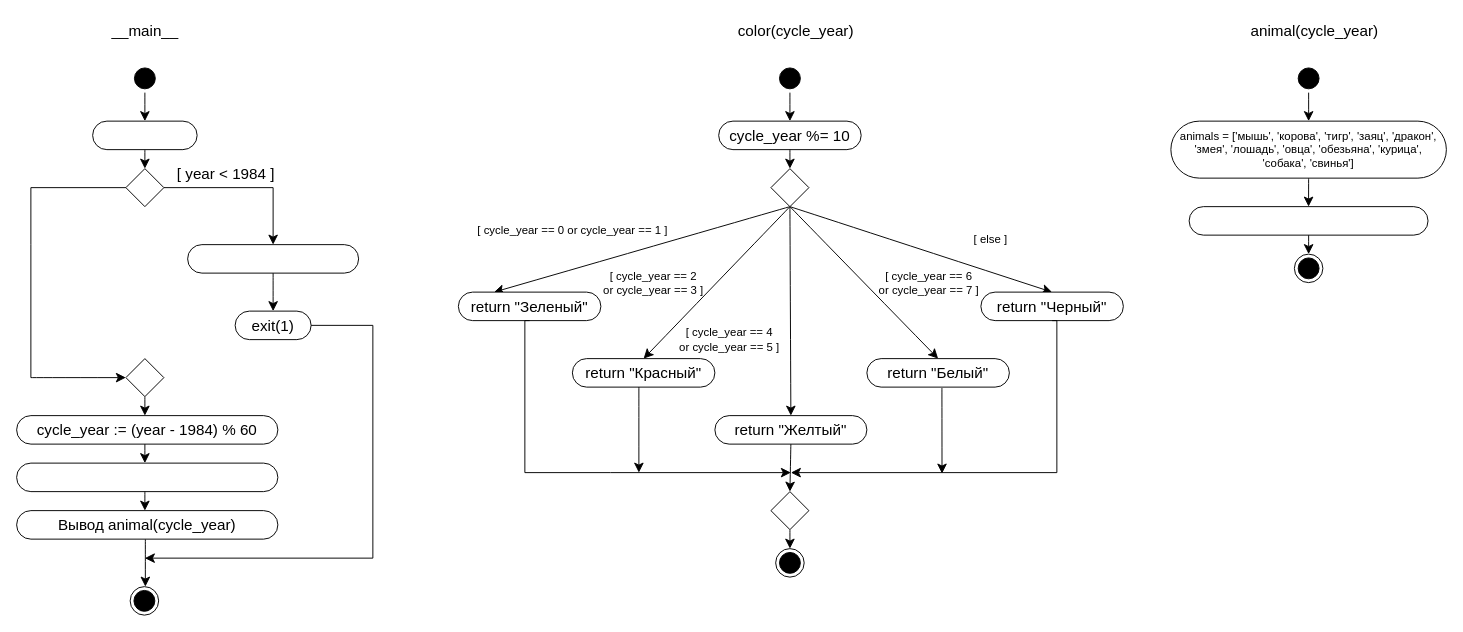
The diagram is 1463 pixels wide and 632 high, and some of its shapes have lost their labels. The centre of each missing label's shape, as x and y in pixels:
return animals[cycle_year % 12]: [1308,220]
Ввод year: [144,135]
Вывод "Ошибка": [273,258]
Вывод color(cycle_year): [147,477]
